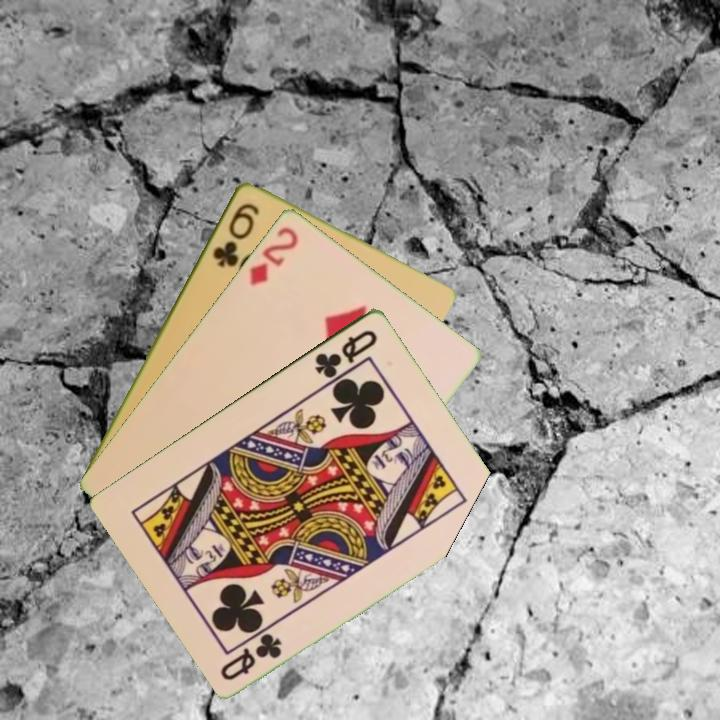2d: (246, 222, 301, 289)
6c: (209, 199, 262, 270)
Qc: (311, 325, 381, 381), (216, 629, 285, 683)
